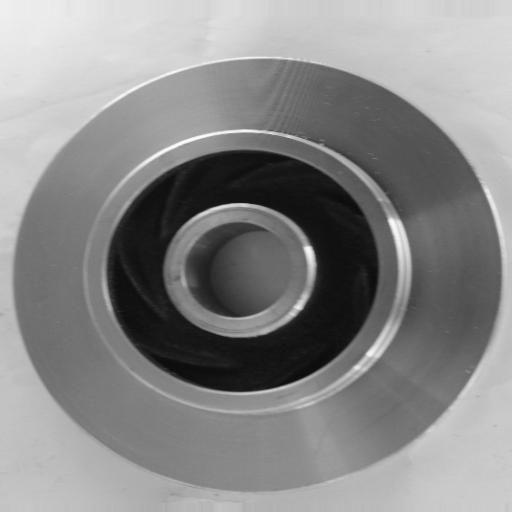polished_casting: (9, 55, 504, 495)
